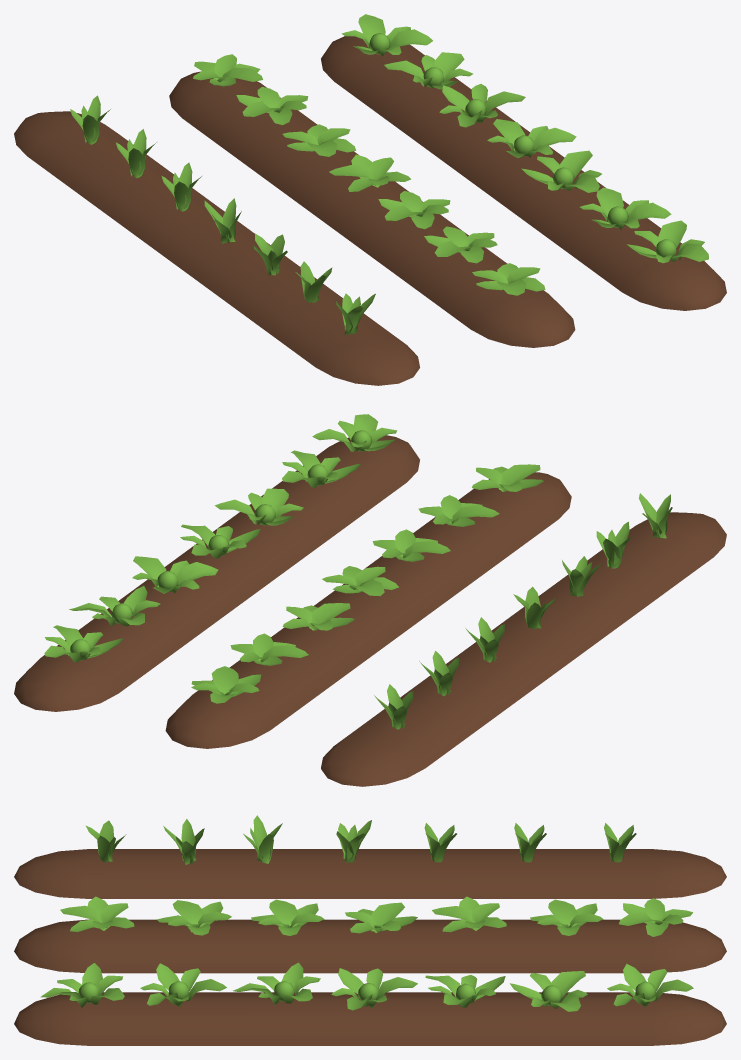
File: Garden plot.fbx
3 renders of one model, top to bottom at view 1: azimuth 30°, elevation 25°; view 2: azimuth 150°, elevation 25°; view 3: azimuth 270°, elevation 25°, orthographic.
Parts seen in each view (by area): view 1: Garden; view 2: Garden; view 3: Garden.
Boxes of the visible parts, bbox=[...] form: Garden: bbox=[14, 14, 726, 385]; Garden: bbox=[14, 414, 726, 786]; Garden: bbox=[14, 815, 726, 1045].
Bounding box in the file's own units: 450 × 56.98 × 711.
